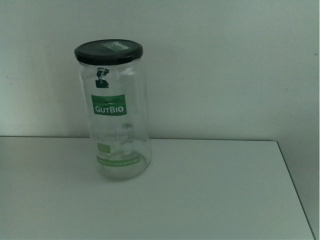pote cristal: (75, 37, 146, 182)
